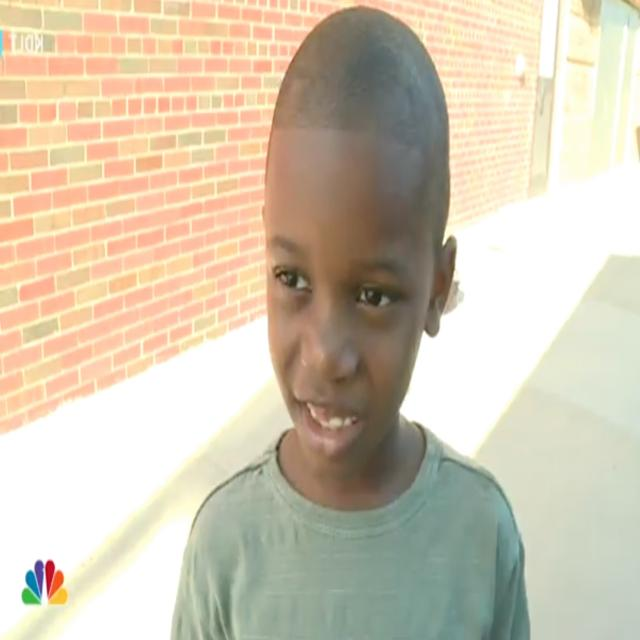child: (168, 4, 532, 640)
